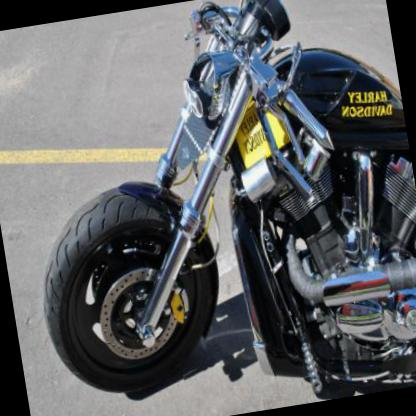motorcycle: (28, 0, 415, 415)
